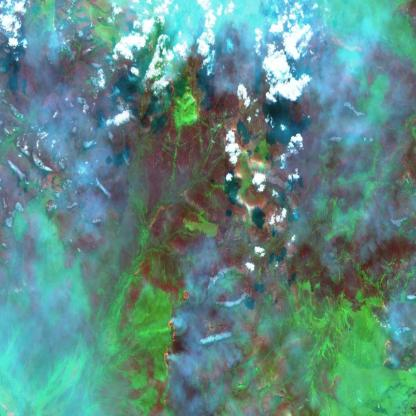fire: (149, 278, 202, 416), (357, 267, 409, 379)
